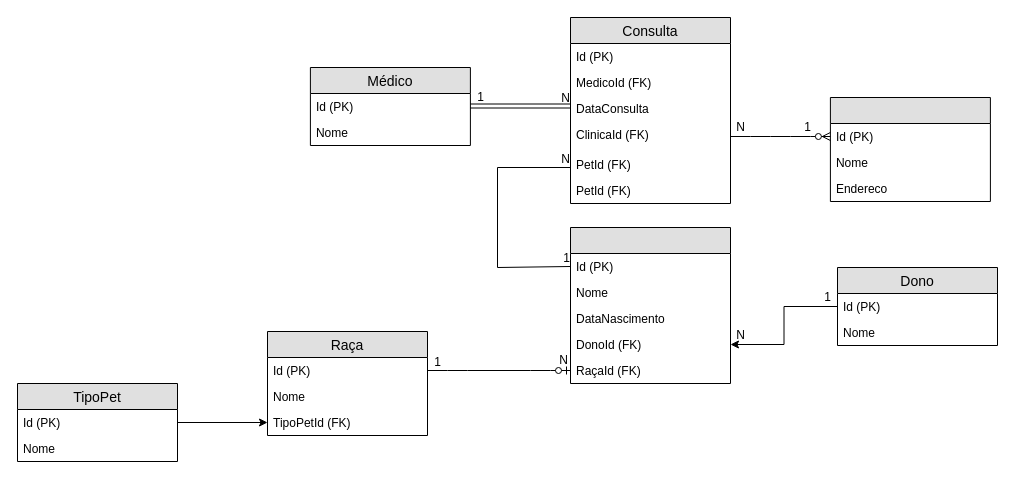
Some shapes in this 1015 by 482 pixel diagram are drawn without their labels. Each missing label, with the box of its shape:
Clinica: (829, 96, 990, 202)
PET: (570, 226, 730, 384)
